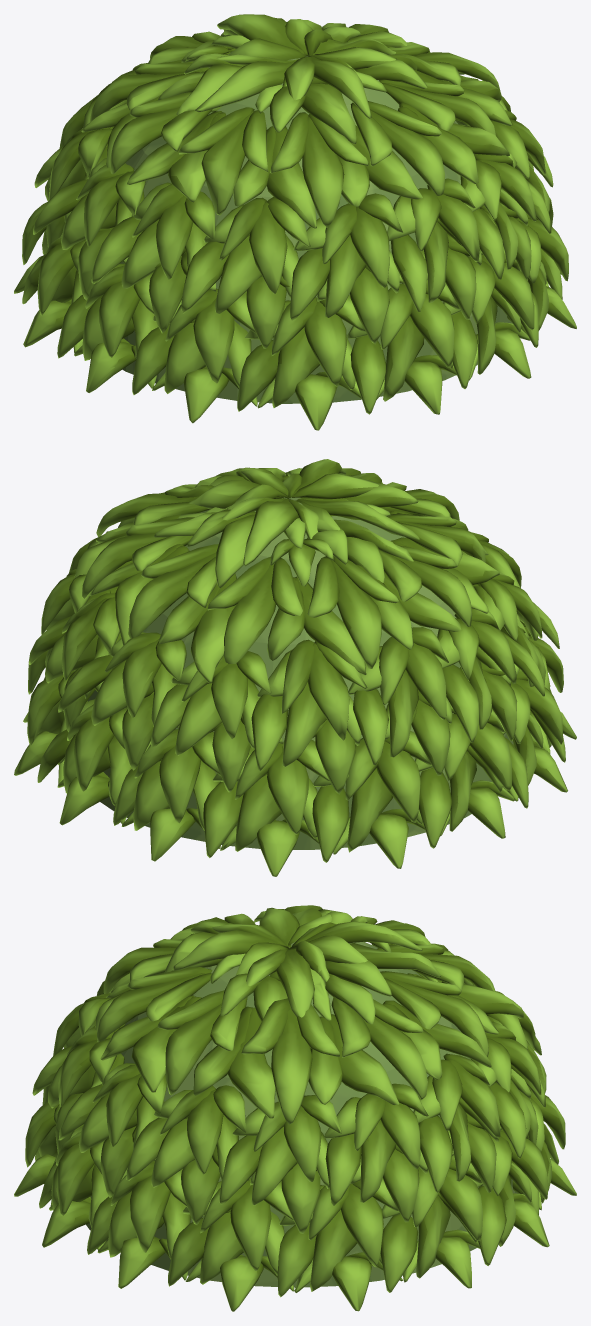
File: Bush1LOD1.fbx
The picture shows the model from 3 angles, top to bottom: view 1: azimuth 30°, elevation 25°; view 2: azimuth 150°, elevation 25°; view 3: azimuth 270°, elevation 25°; orthographic projection.
Visible parts, largest first — view 1: Plane.006; view 2: Plane.006; view 3: Plane.006.
Boxes of the visible parts, left/top/right/bottom form: Plane.006: left=14, top=14, right=576, bottom=430; Plane.006: left=14, top=459, right=576, bottom=876; Plane.006: left=14, top=905, right=576, bottom=1311.
Size of the model in its own units: 123 by 66.52 by 126.
